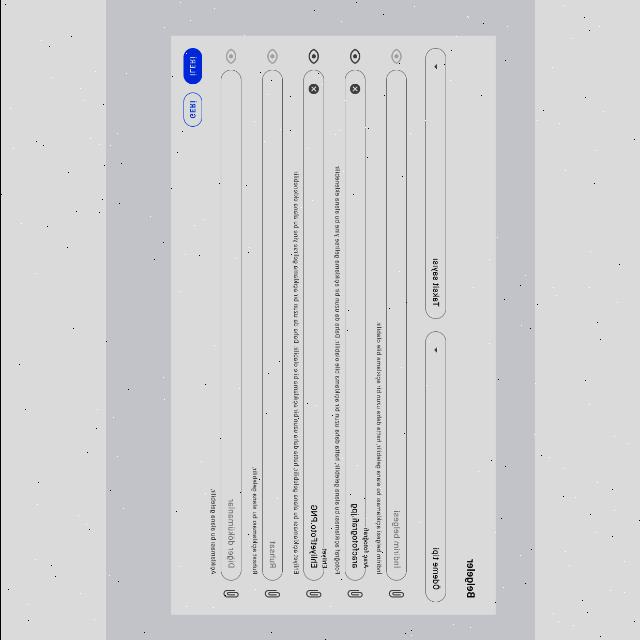QLabel: (334, 164, 342, 576), (292, 170, 300, 576), (375, 322, 383, 576), (250, 465, 258, 575), (209, 488, 217, 576), (464, 558, 476, 600), (190, 56, 197, 78), (190, 100, 197, 120)
VBtn: (183, 92, 203, 128), (183, 48, 203, 84)
VCard: (169, 36, 496, 616)
VCombobox: (424, 332, 446, 602), (426, 48, 446, 318)
VFileInput: (301, 66, 327, 602), (343, 68, 369, 600), (385, 66, 409, 602), (261, 68, 285, 600), (219, 68, 243, 600)
VIcon: (390, 48, 402, 64), (349, 49, 361, 65), (308, 48, 320, 64), (226, 48, 237, 64), (267, 48, 277, 64)
